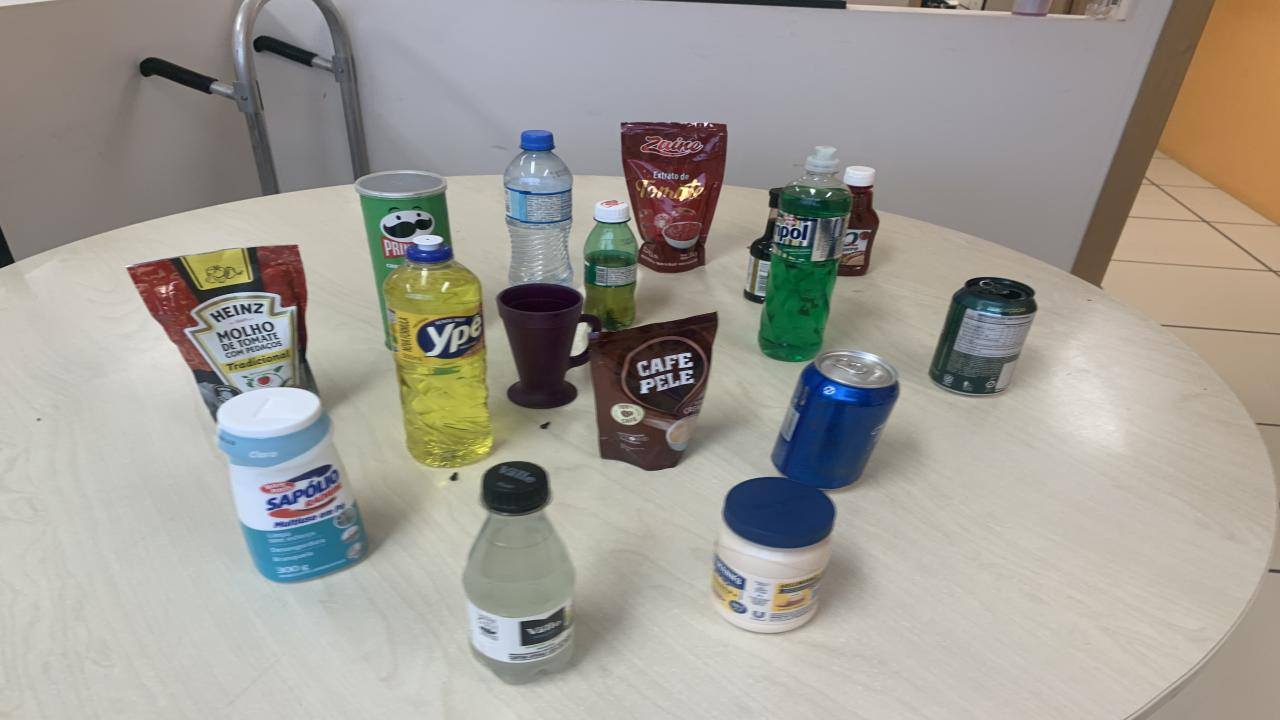Cleaner-Cleanup_Items: (215, 386, 368, 583)
Coffee-Pantry_Items: (590, 313, 718, 471)
Detergent-Cleanup_Items: (382, 234, 492, 467), (758, 146, 852, 362)
English_Sauce-Pantry_Items: (742, 188, 782, 304)
Guarana-Drinks: (582, 201, 638, 330)
Guarana_Can-Drinks: (930, 278, 1038, 396)
Ketchup-Pantry_Items: (128, 246, 318, 416), (838, 167, 880, 276)
Mayonnaise-Pantry_Items: (712, 476, 835, 634)
Pringles-Snacks: (355, 171, 450, 334)
Soda-Drinks: (462, 461, 575, 682)
Tomato_Sauce-Pantry_Items: (128, 246, 318, 416), (620, 122, 728, 272)
Tonic-Drinks: (772, 351, 900, 489)
Water_Bottle-Drinks: (502, 131, 572, 285)
